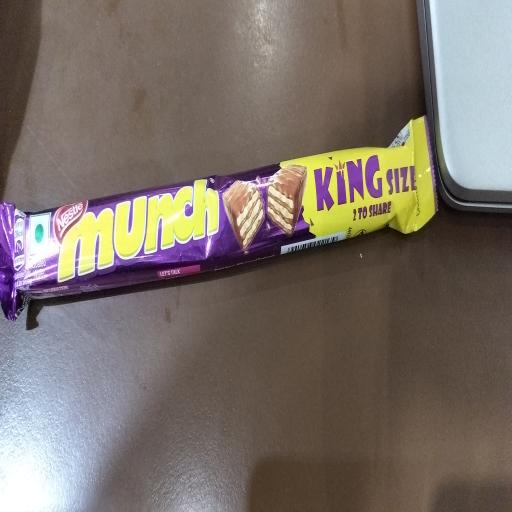chocolate: (1, 151, 437, 294)
munch: (54, 173, 220, 284)
